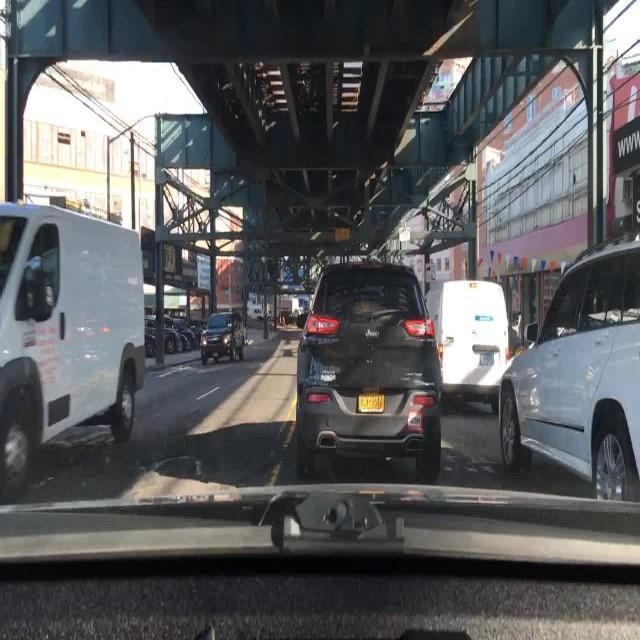normal: (0, 197, 139, 499), (495, 238, 639, 502), (297, 261, 447, 476), (424, 274, 510, 407), (147, 317, 205, 363), (200, 313, 249, 365)
